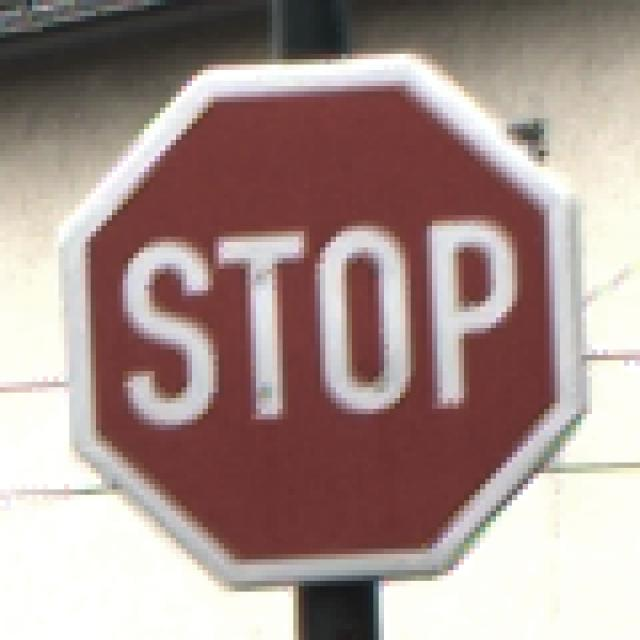STOP: (54, 55, 588, 587)
